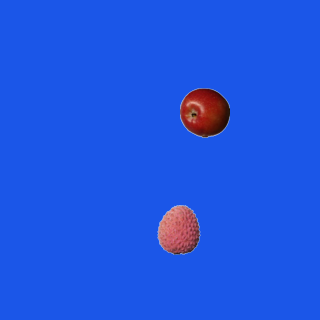Apple Braeburn: (179, 87, 229, 137)
Lychee: (153, 204, 203, 254)
